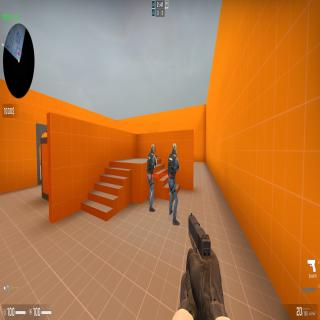CT-Body: (167, 143, 180, 226), (147, 144, 157, 212)
CT-Head: (172, 142, 178, 156), (150, 144, 156, 156)
